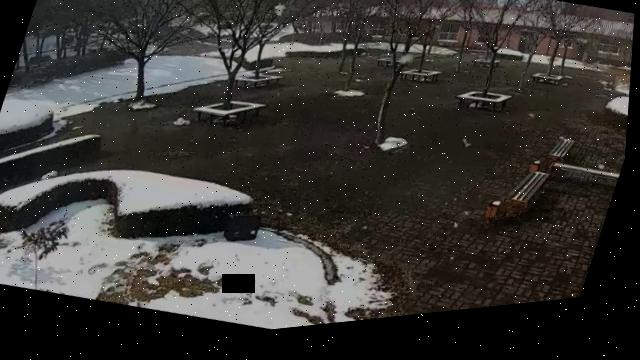bag: (225, 208, 268, 253)
